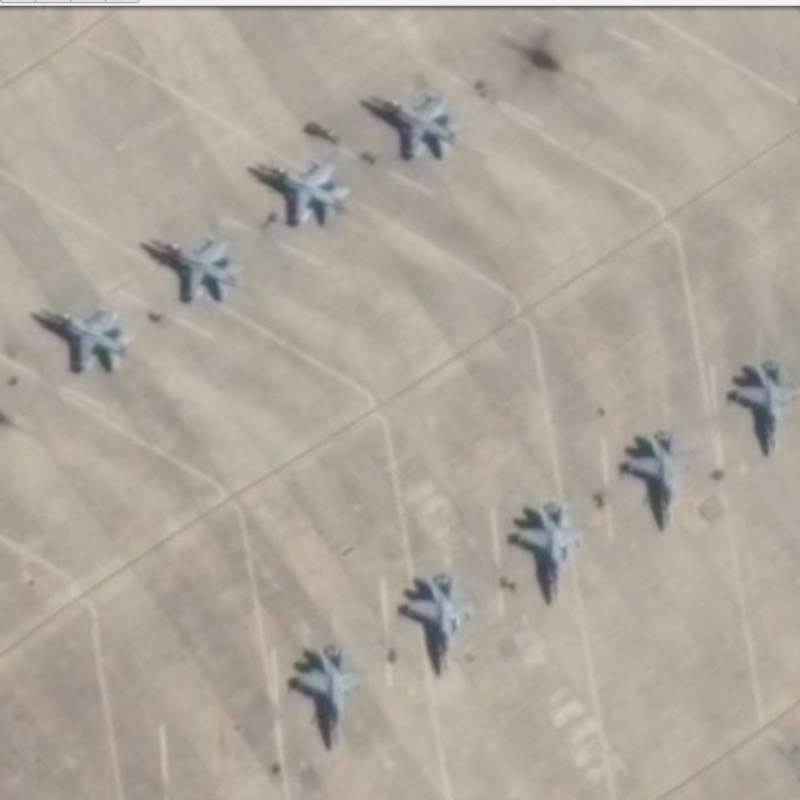A16: (503, 491, 593, 606), (283, 637, 370, 753), (392, 568, 480, 678), (359, 79, 467, 168), (241, 154, 358, 236), (25, 295, 139, 378), (136, 227, 249, 309), (720, 350, 799, 458), (615, 427, 695, 533)
